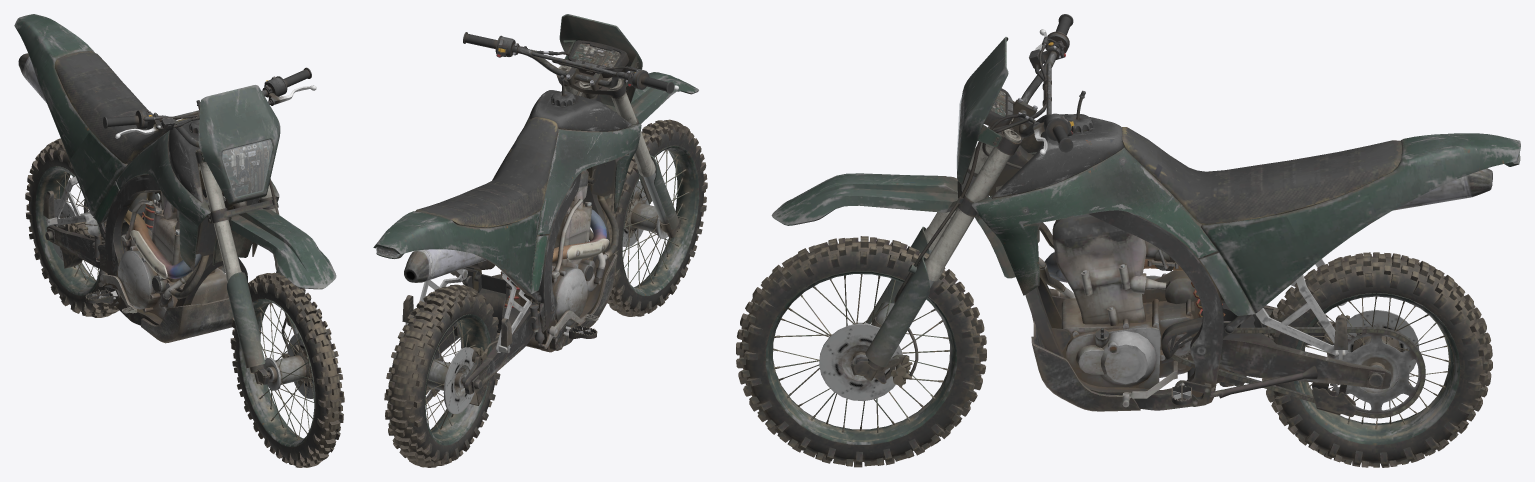
The model's file is VEH_DirtBike_M1030.glb.
3 views of the same model, side by side, from view 1: azimuth 30°, elevation 25°; view 2: azimuth 150°, elevation 25°; view 3: azimuth 270°, elevation 25° (orthographic). The views are drawn at different scales.
Parts seen in each view (by area): view 1: ob_veh_motorcycle_dirtbike02_base_s0, ob_veh_motorcycle_dirtbike02_base_s1, ob_veh_motorcycle_dirtbike02_base_s2; view 2: ob_veh_motorcycle_dirtbike02_base_s0, ob_veh_motorcycle_dirtbike02_base_s3; view 3: ob_veh_motorcycle_dirtbike02_base_s0.
Boxes of the visible parts, x1,y1,x2,y2 form: ob_veh_motorcycle_dirtbike02_base_s0: (14, 14, 344, 467); ob_veh_motorcycle_dirtbike02_base_s1: (222, 139, 272, 197); ob_veh_motorcycle_dirtbike02_base_s2: (223, 140, 271, 196); ob_veh_motorcycle_dirtbike02_base_s0: (373, 14, 707, 467); ob_veh_motorcycle_dirtbike02_base_s3: (571, 43, 620, 67); ob_veh_motorcycle_dirtbike02_base_s0: (736, 14, 1520, 467).
Size of the model in its own units: 0.8855 by 1.35 by 2.32.
Materials: 4 (3 with a texture image).
